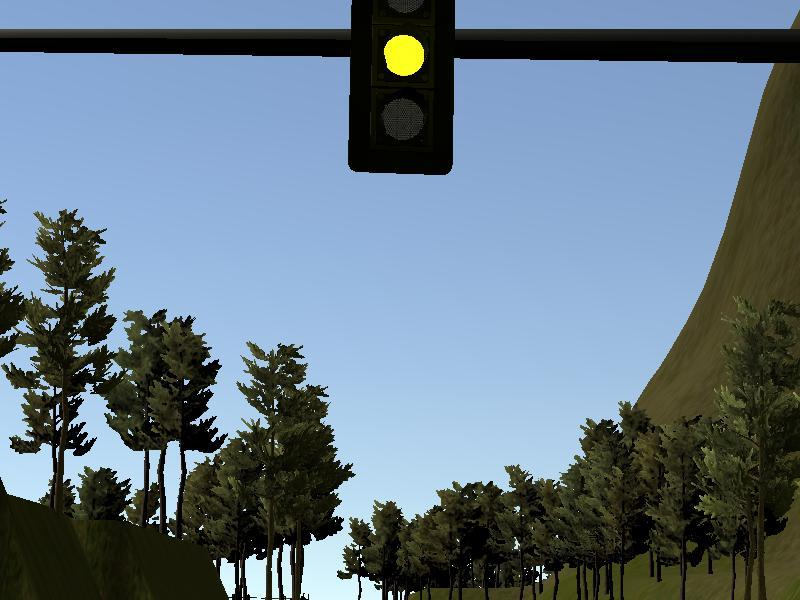Yellow: (349, 1, 455, 174)
